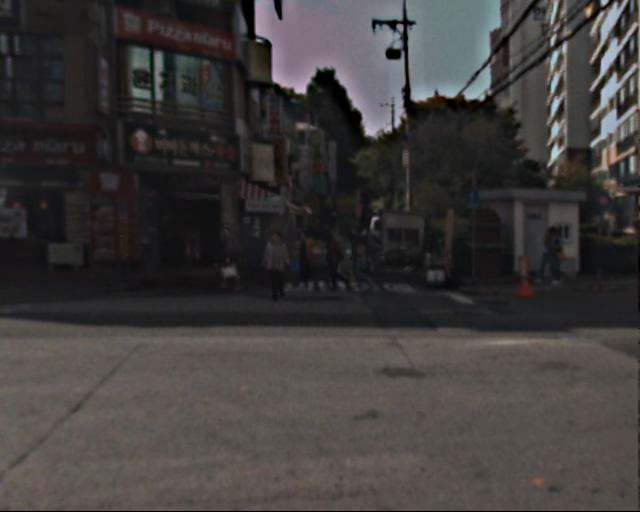person: (265, 232, 293, 300), (540, 225, 567, 292), (326, 227, 353, 294), (220, 223, 247, 290), (294, 226, 318, 284), (357, 224, 382, 278), (352, 244, 373, 294)
